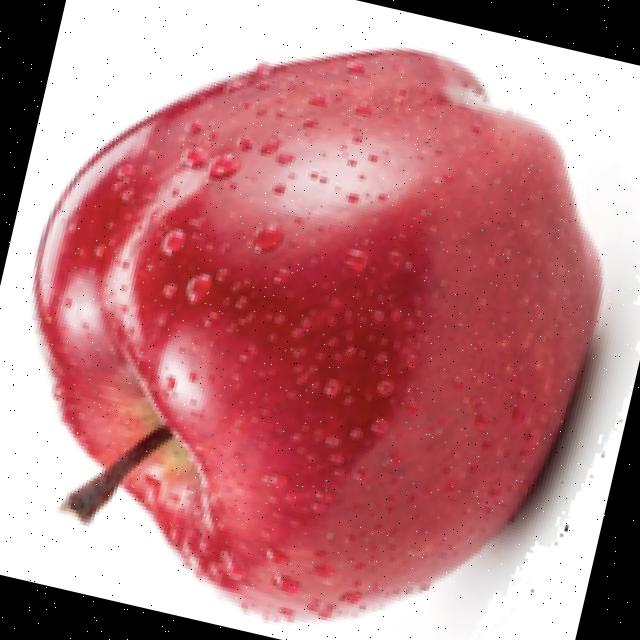apple: (26, 42, 640, 625)
